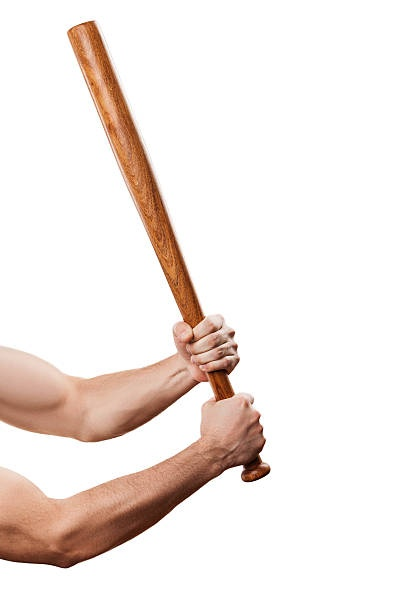bita: (64, 22, 269, 478)
